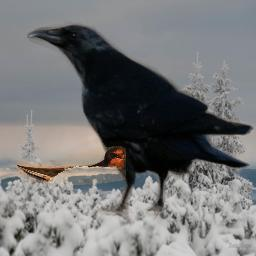Crow: (27, 21, 254, 227)
Swallow: (17, 146, 126, 185)
